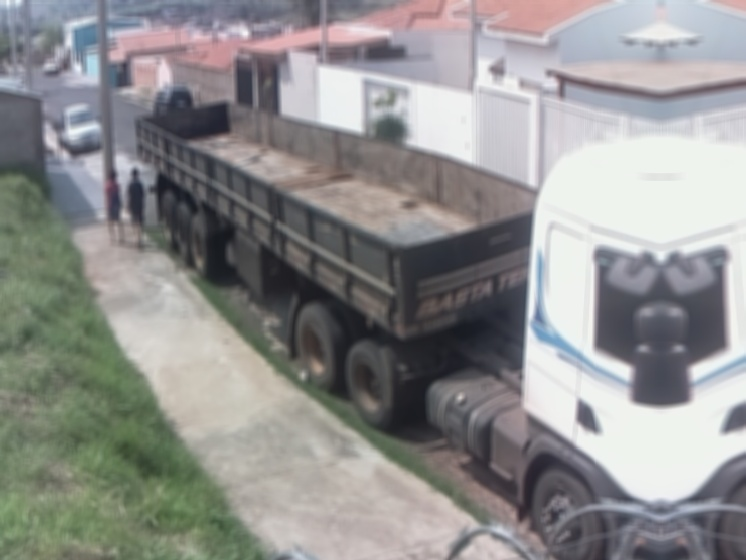person: (102, 167, 127, 248), (125, 164, 148, 251)
